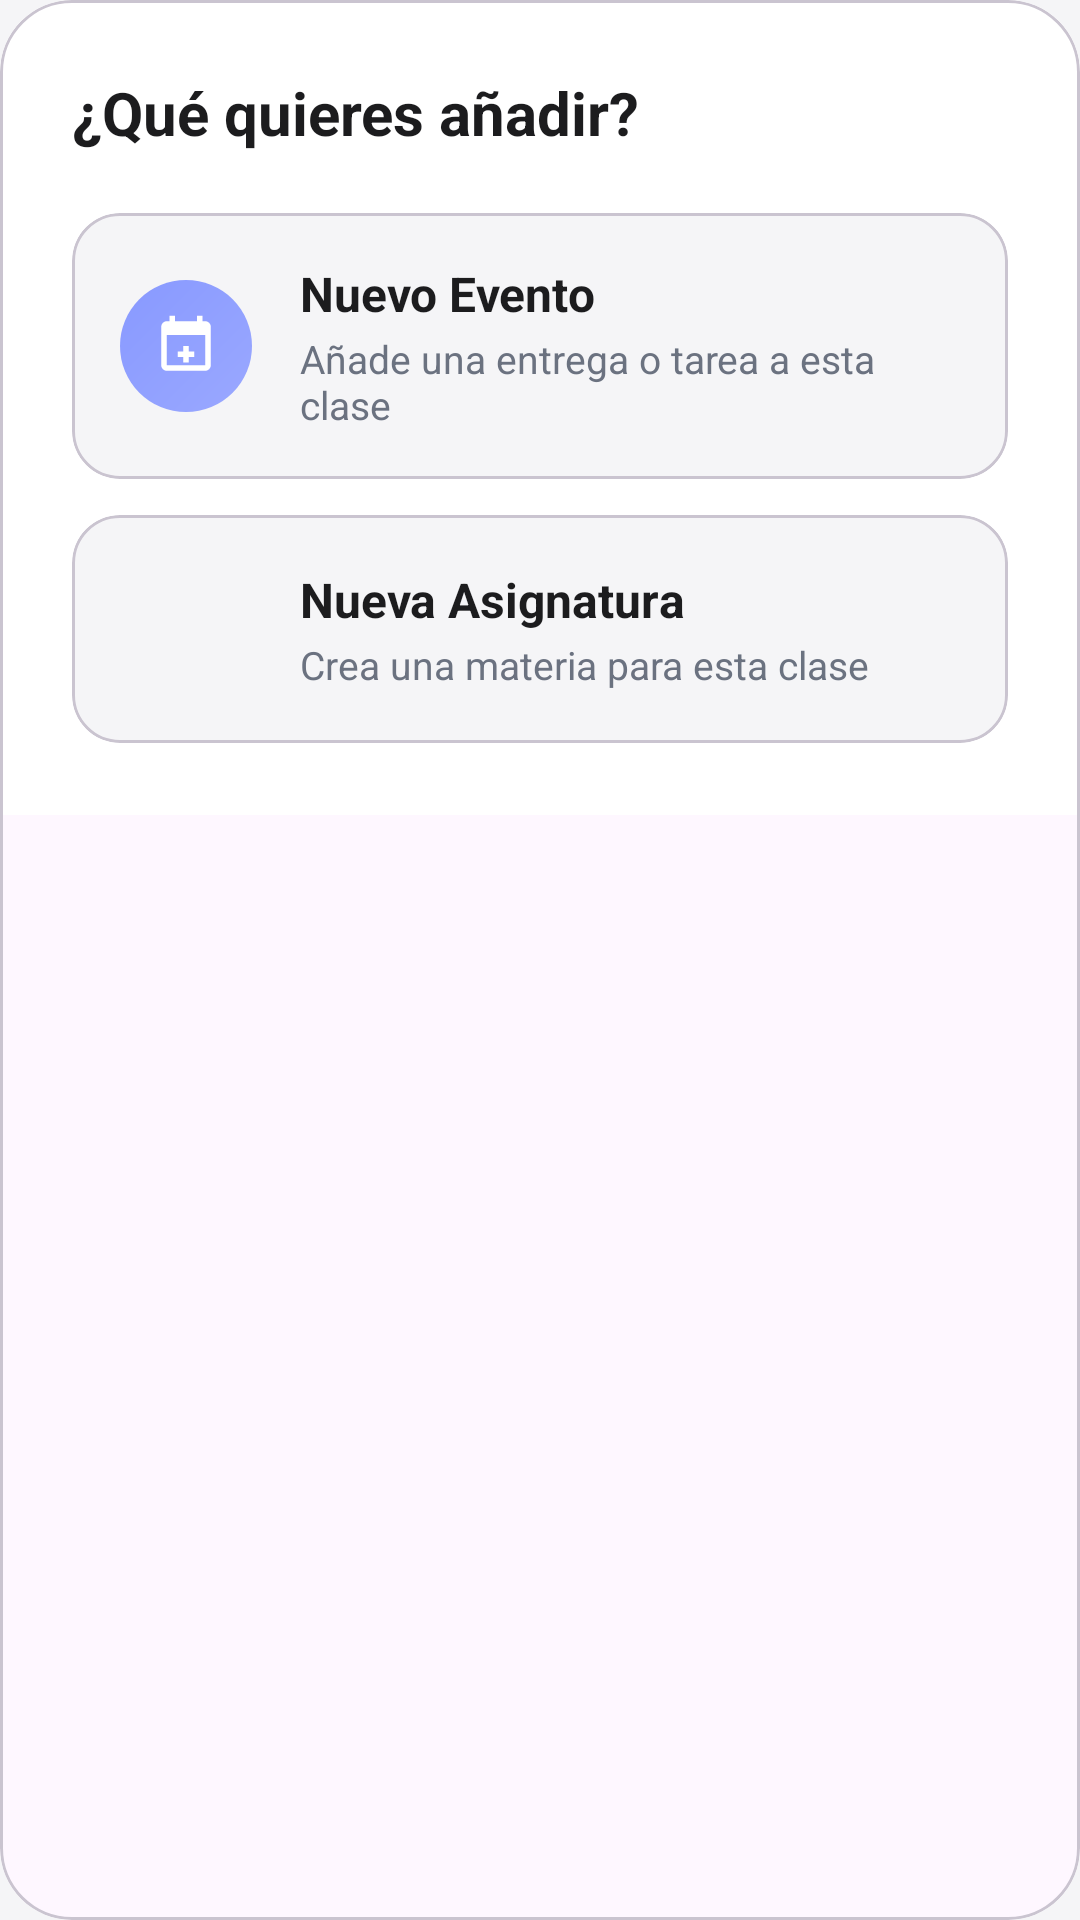

Screen size 1080px×1920px. Icon name, then its center in pixels as [x,y]:
event add: [186,343]
